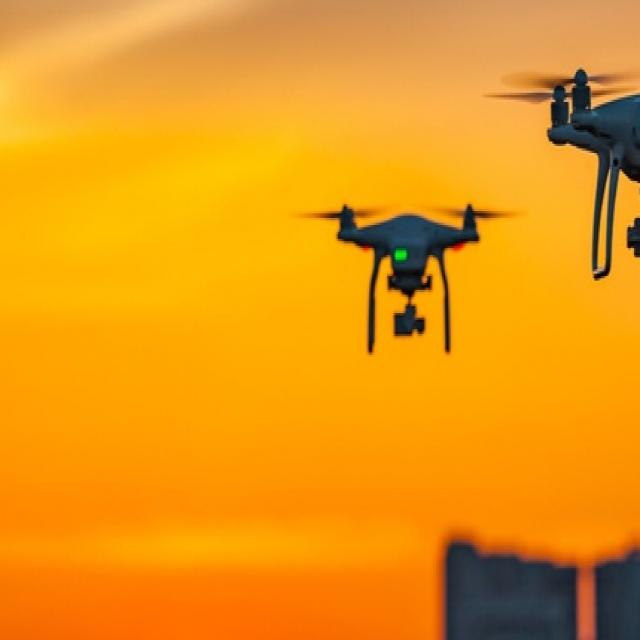drone: (284, 162, 505, 366), (506, 63, 640, 283)
